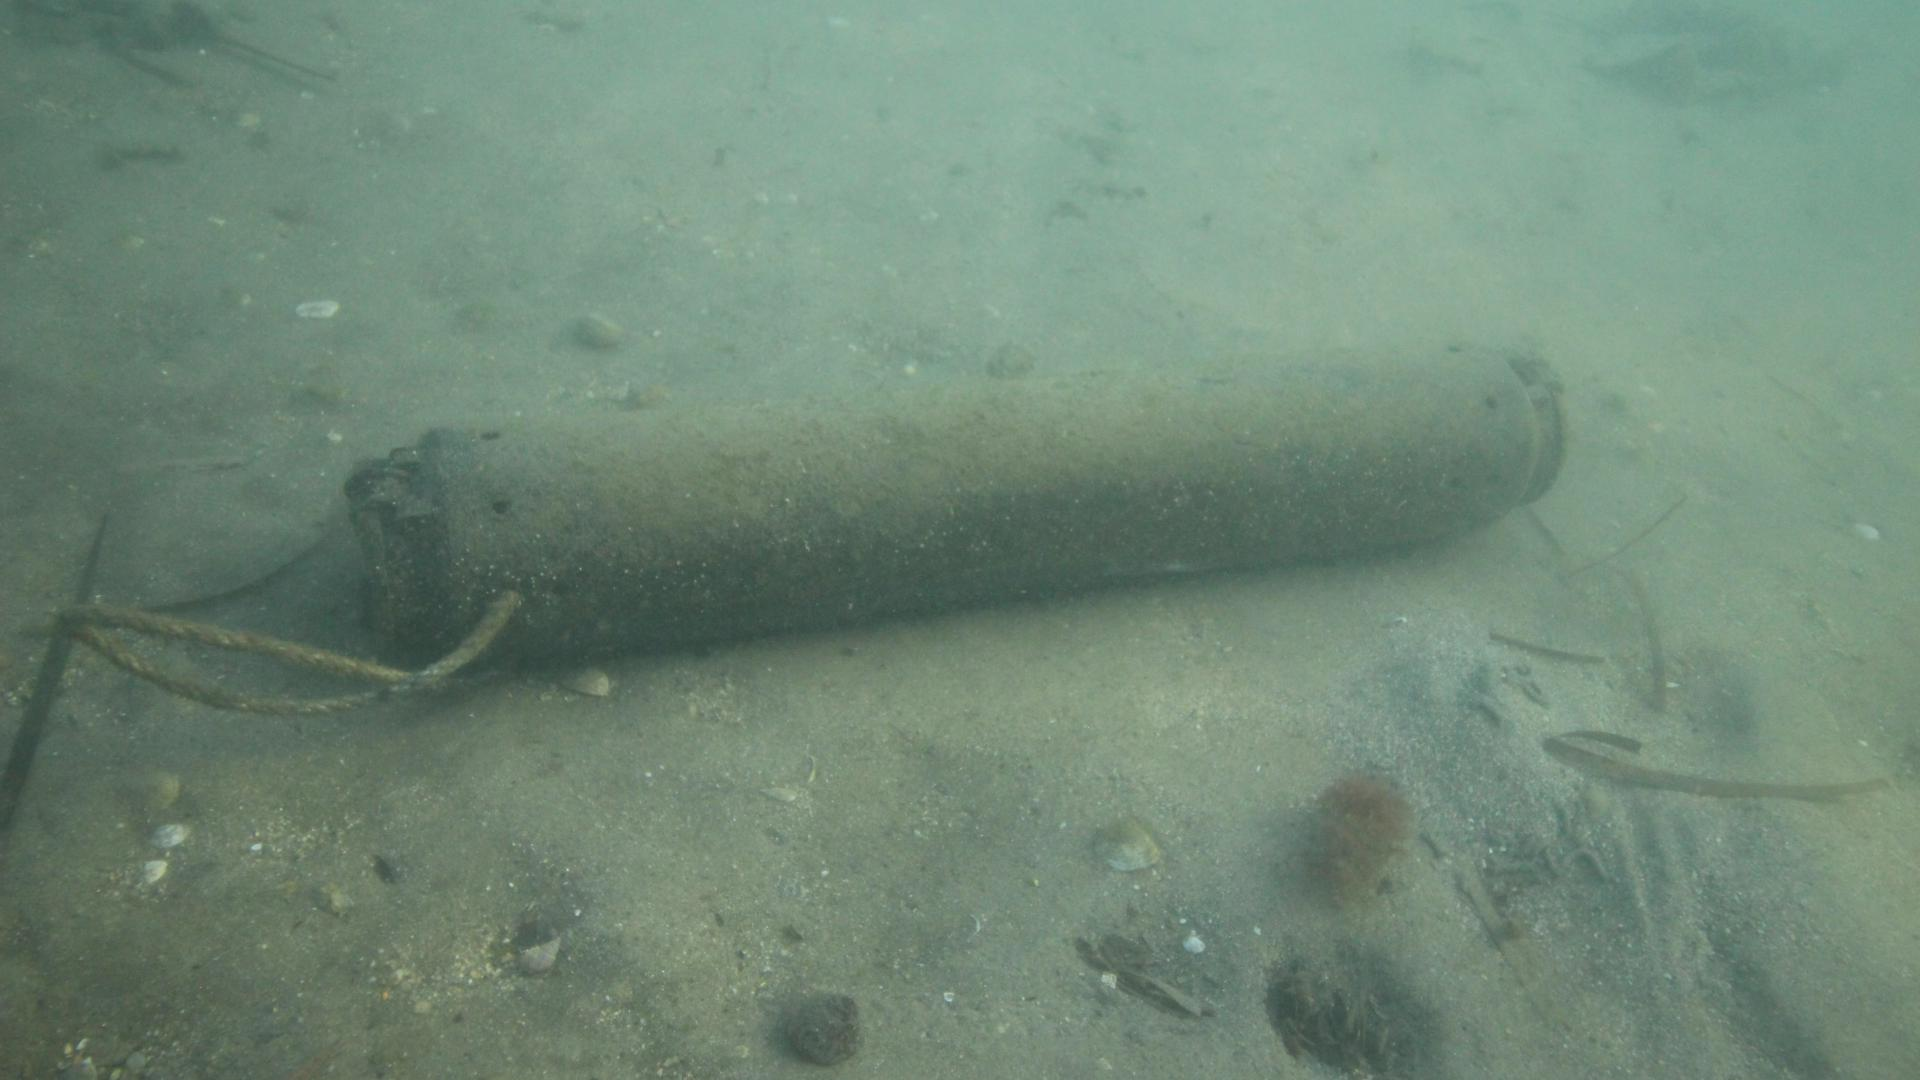eel fish trap: (345, 335, 1572, 678)
rope: (51, 589, 524, 716)
